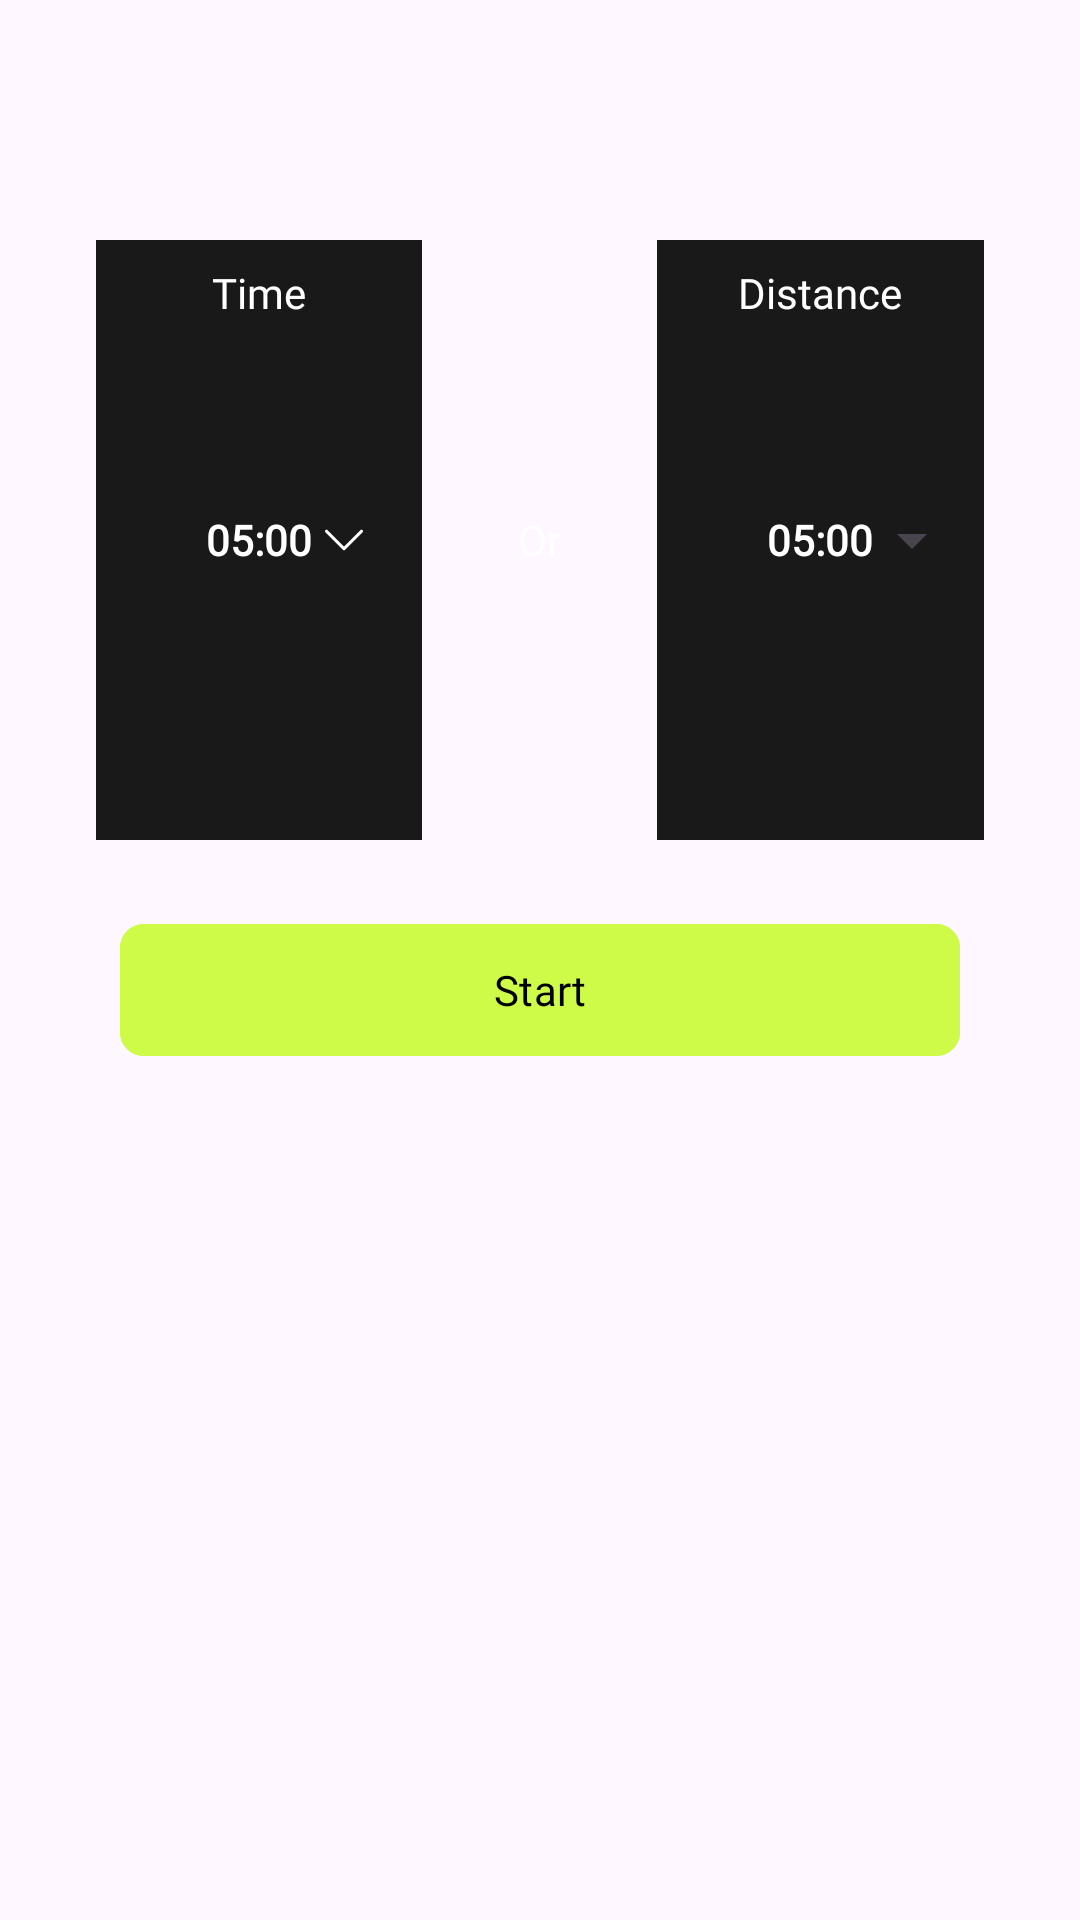

Locate icon controls on the screen. Image size 1080×1920, boxes as (left=x1, top=y1, right=x2, bottom=y2).
down: (left=325, top=529, right=363, bottom=551)
